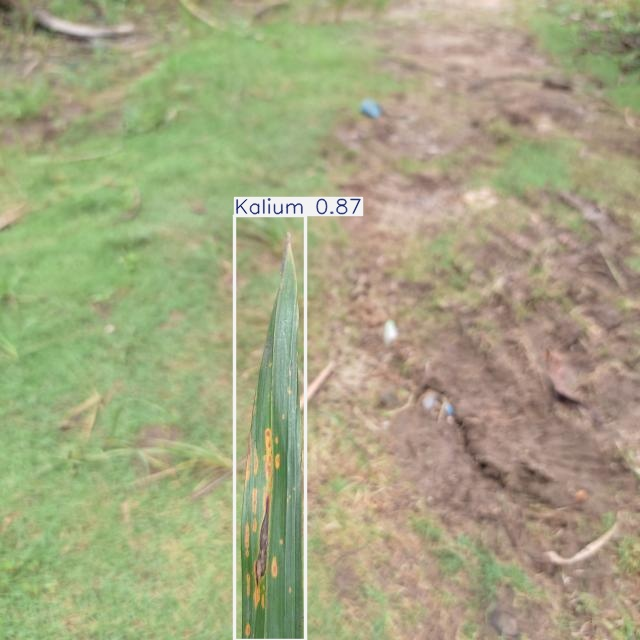Kalium: (235, 215, 305, 640)
